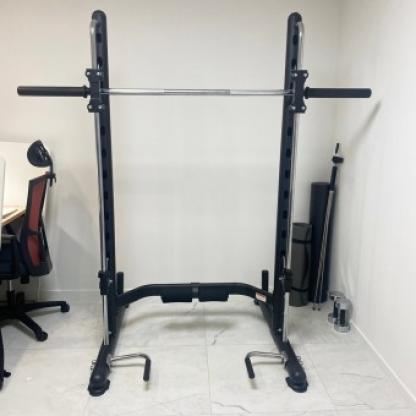smith machine: (72, 8, 322, 397)
